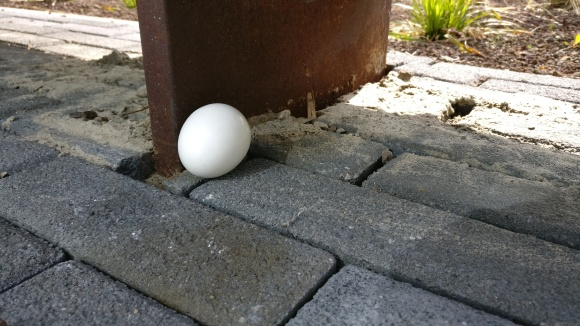egg: (176, 102, 252, 180)
